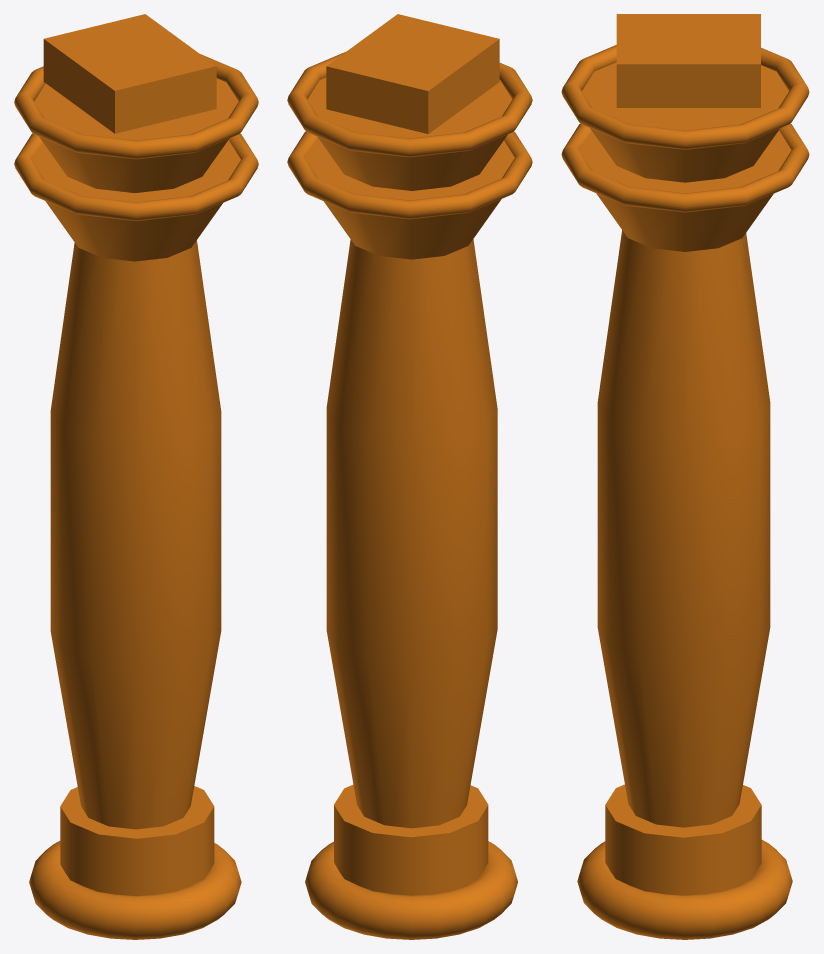
The model's file is Column 4.FBX.
3 renders of one model, left to right at view 1: azimuth 30°, elevation 25°; view 2: azimuth 150°, elevation 25°; view 3: azimuth 270°, elevation 25°, orthographic.
Parts seen in each view (by area): view 1: Cylinder002; view 2: Cylinder002; view 3: Cylinder002.
Part boxes in pixels (x1,y1,x2,y2): Cylinder002: (14, 14, 258, 939); Cylinder002: (287, 14, 532, 939); Cylinder002: (561, 14, 809, 939).
Size of what is drawn, in the model's own units: 2.4 by 9.21 by 2.4.
